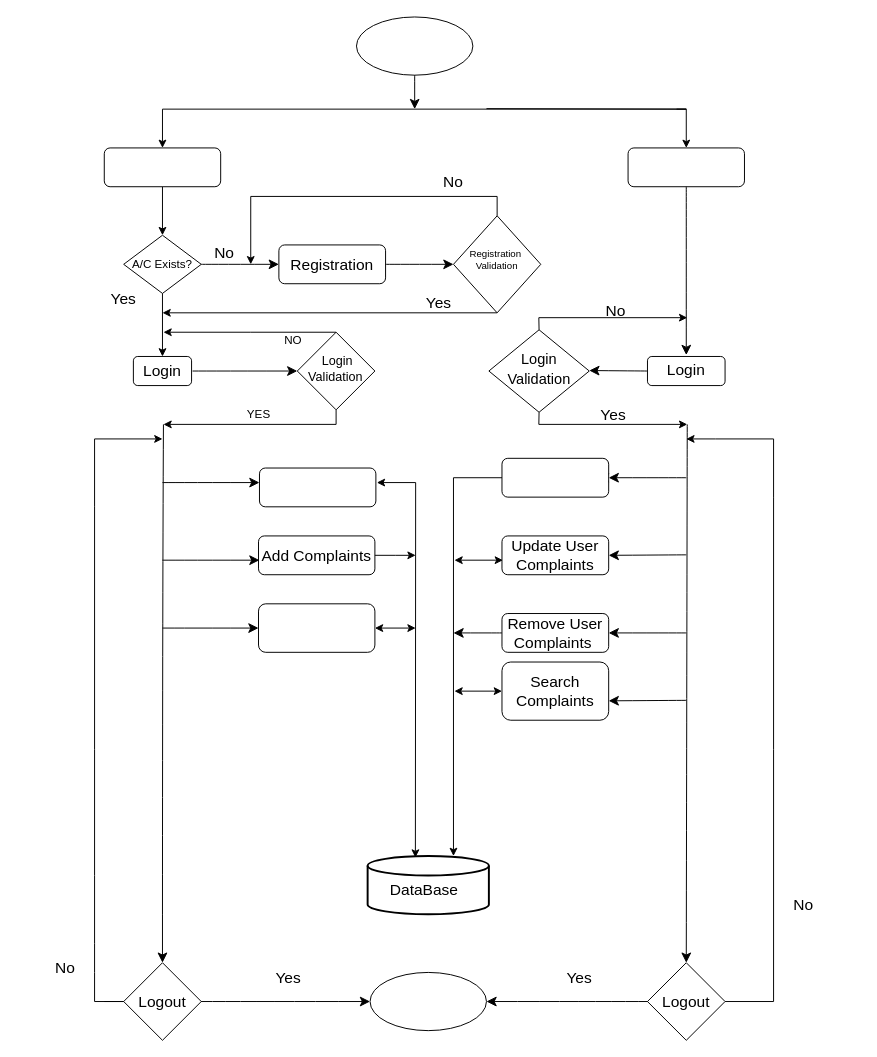
This 877x1057 diagram has some shape labels left out. The shapes that lost their labels are listed below. From the top down, each one's box as (x1, y1, x2, y2) in pixels, then its label:
(356, 16, 473, 75): Start
(103, 147, 221, 187): Users
(627, 147, 744, 187): Admin
(259, 467, 376, 507): View Their Cases
(501, 457, 609, 497): Manage User Details
(258, 603, 375, 652): Search Their Complaints
(369, 971, 486, 1031): Stop
